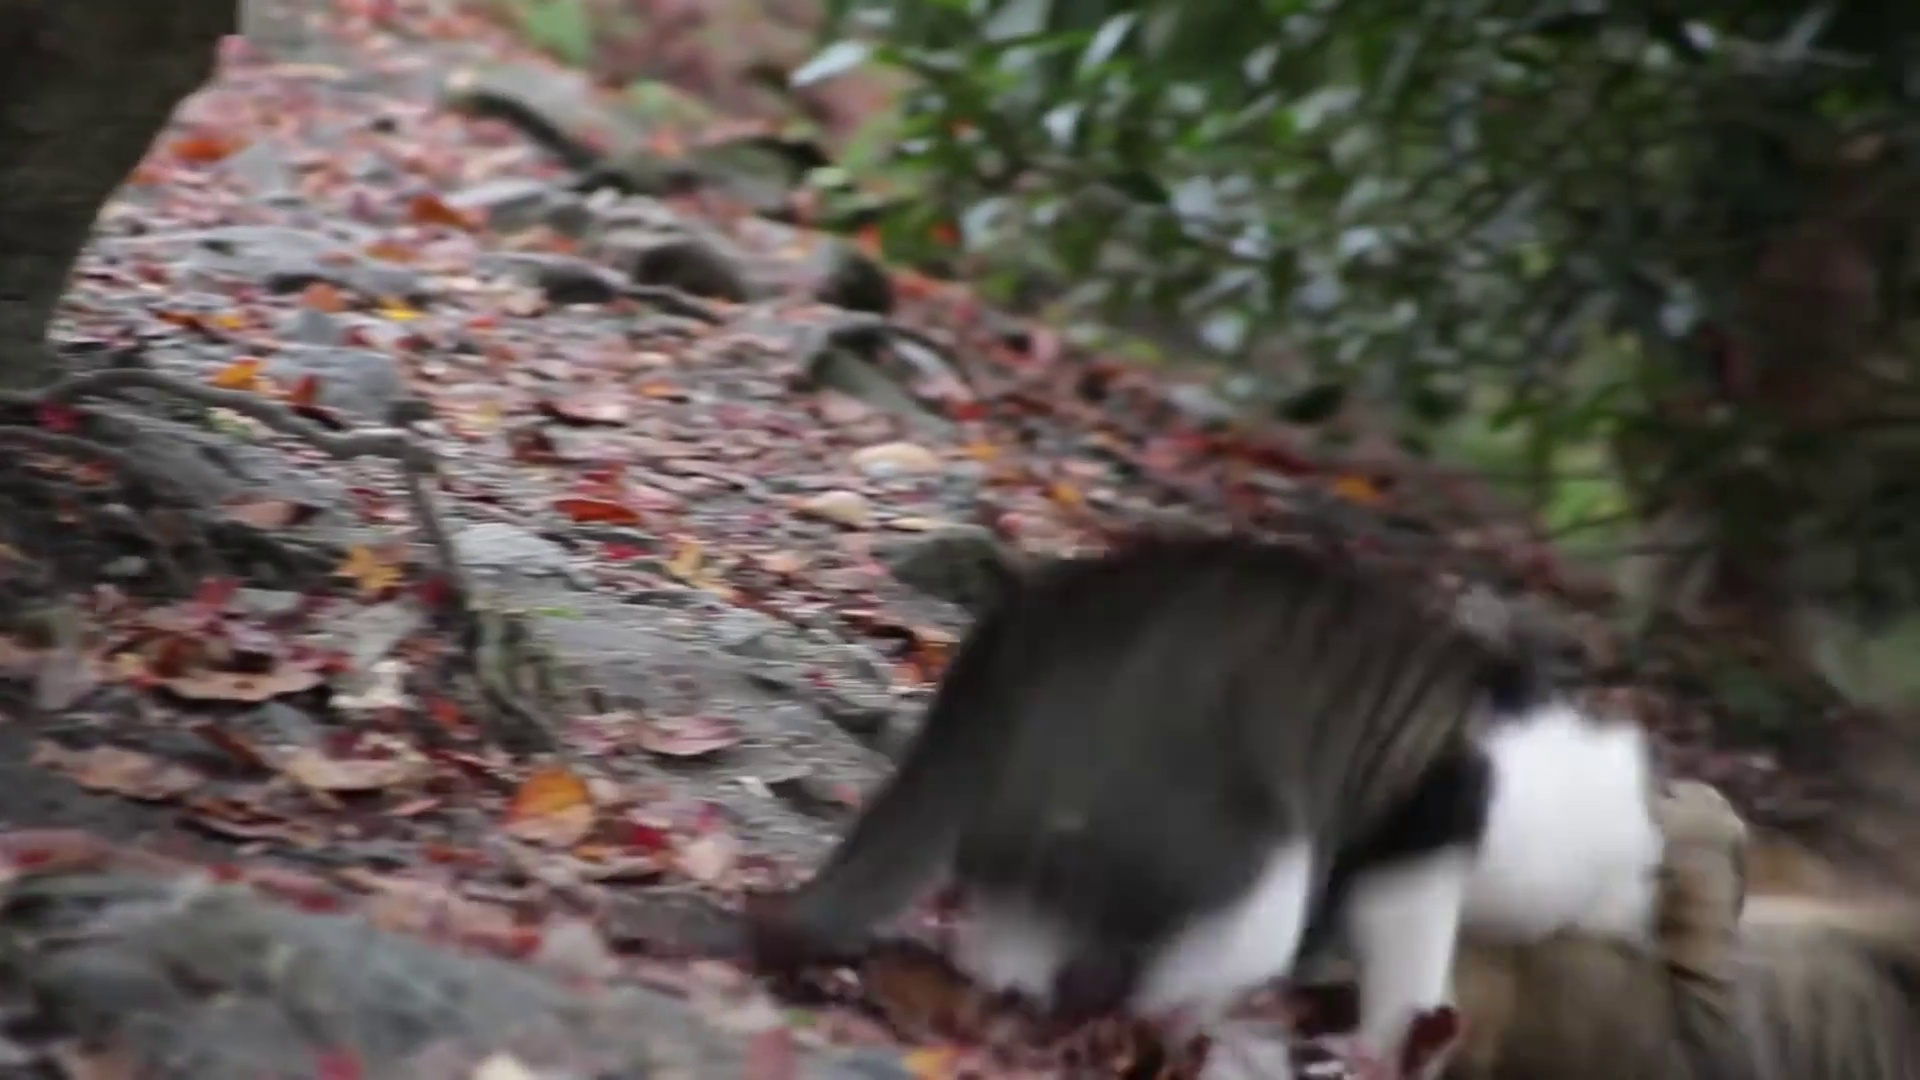black-white: (752, 546, 1664, 1069)
pure black: (1321, 777, 1920, 1080)
